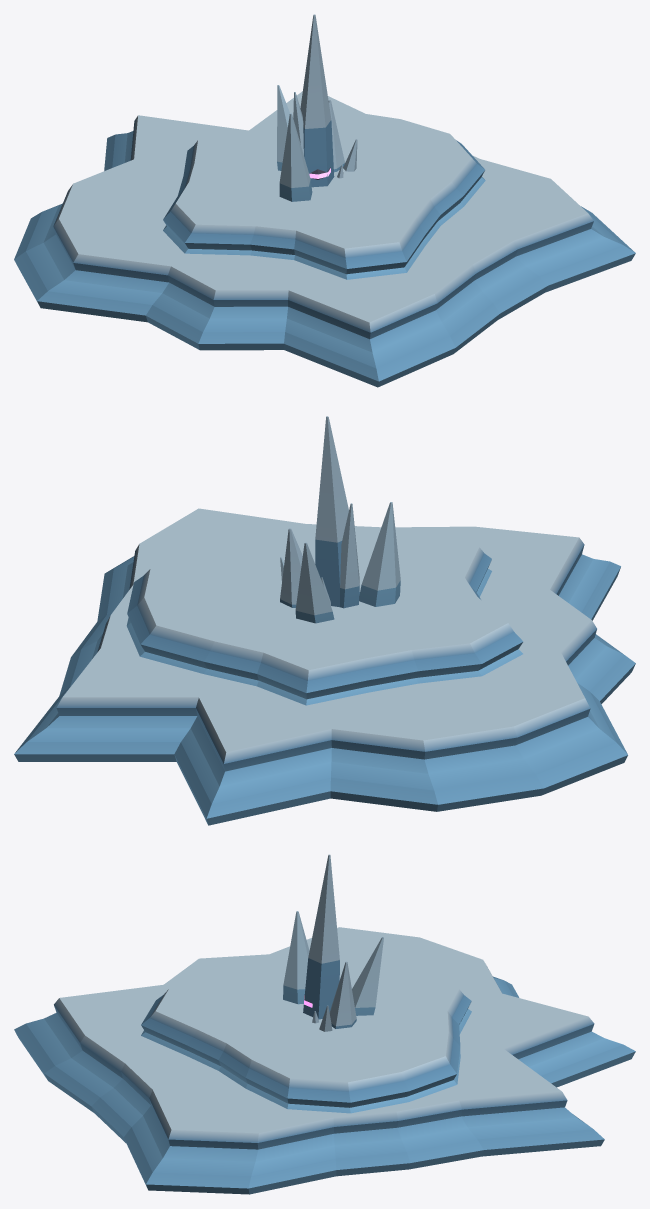
File: props.glb
3 renders of one model, top to bottom at view 1: azimuth 30°, elevation 25°; view 2: azimuth 150°, elevation 25°; view 3: azimuth 270°, elevation 25°, orthographic. The views are drawn at different scales.
Visible parts, largest first — view 1: glacier_1, glacier_0, spire_2, spire_0; view 2: glacier_1, glacier_0, spire_2, spire_0; view 3: glacier_1, glacier_0, spire_2.
Part boxes in pixels (left/top/right/bottom): glacier_1: left=14, top=91, right=635, bottom=387; glacier_0: left=163, top=110, right=485, bottom=279; spire_2: left=277, top=14, right=344, bottom=201; spire_0: left=293, top=92, right=357, bottom=178; glacier_1: left=14, top=508, right=635, bottom=825; glacier_0: left=126, top=528, right=523, bottom=705; spire_2: left=280, top=416, right=400, bottom=623; spire_0: left=280, top=503, right=359, bottom=608; glacier_1: left=14, top=927, right=635, bottom=1194; glacier_0: left=141, top=947, right=471, bottom=1113; spire_2: left=283, top=854, right=383, bottom=1028.
Bounding box in the file's own units: 296 × 130 × 321.
